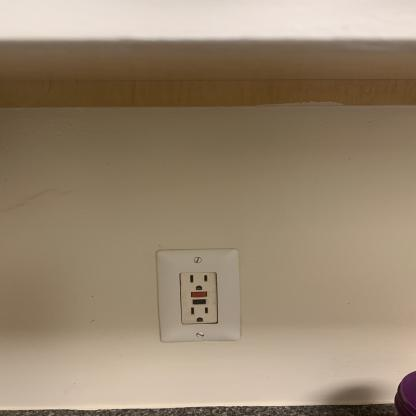OUTLET: (156, 249, 242, 342)
